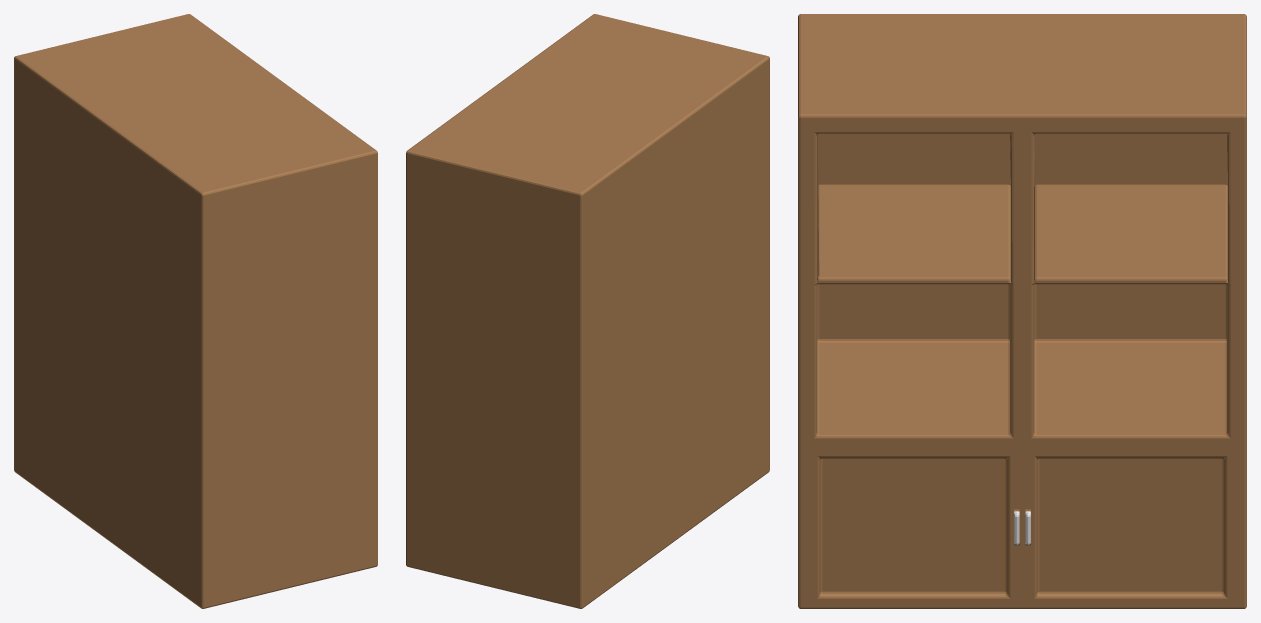
The model's file is dolapp.fbx.
3 renders of one model, left to right at view 1: azimuth 30°, elevation 25°; view 2: azimuth 150°, elevation 25°; view 3: azimuth 270°, elevation 25°, orthographic. The views are drawn at different scales.
Visible parts, largest first — view 1: dolap; view 2: dolap; view 3: dolap.
Boxes of the visible parts, x1=… form: dolap: x1=14, y1=14, x2=377, y2=608; dolap: x1=406, y1=14, x2=769, y2=608; dolap: x1=798, y1=14, x2=1246, y2=608.
Size of the model in its own units: 111 by 243 by 200.
